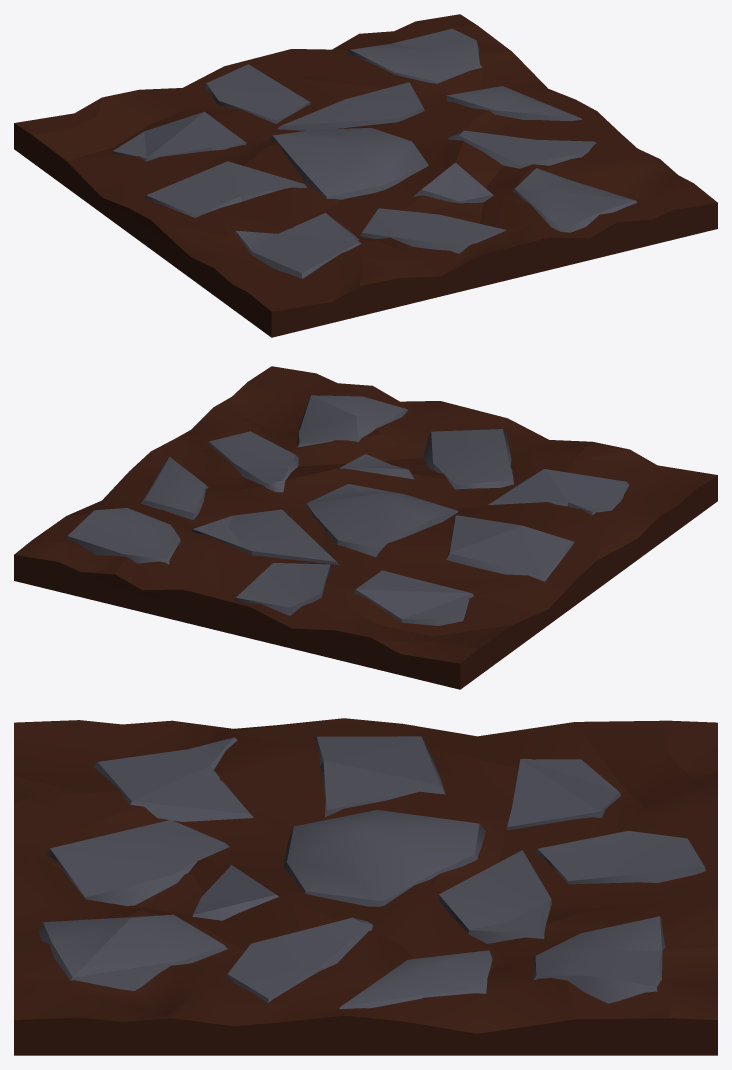
The model's file is Ground_Stones_1.fbx.
3 views of the same model, one above another, from view 1: azimuth 30°, elevation 25°; view 2: azimuth 150°, elevation 25°; view 3: azimuth 270°, elevation 25° (orthographic). The views are drawn at different scales.
Visible parts, largest first — view 1: Ground_Stones_1; view 2: Ground_Stones_1; view 3: Ground_Stones_1.
Part boxes in pixels (x1=…): Ground_Stones_1: x1=14, y1=14, x2=717, y2=337; Ground_Stones_1: x1=14, y1=366, x2=717, y2=689; Ground_Stones_1: x1=14, y1=718, x2=717, y2=1055.
Size of the model in its own units: 147 by 15.7 by 147.
